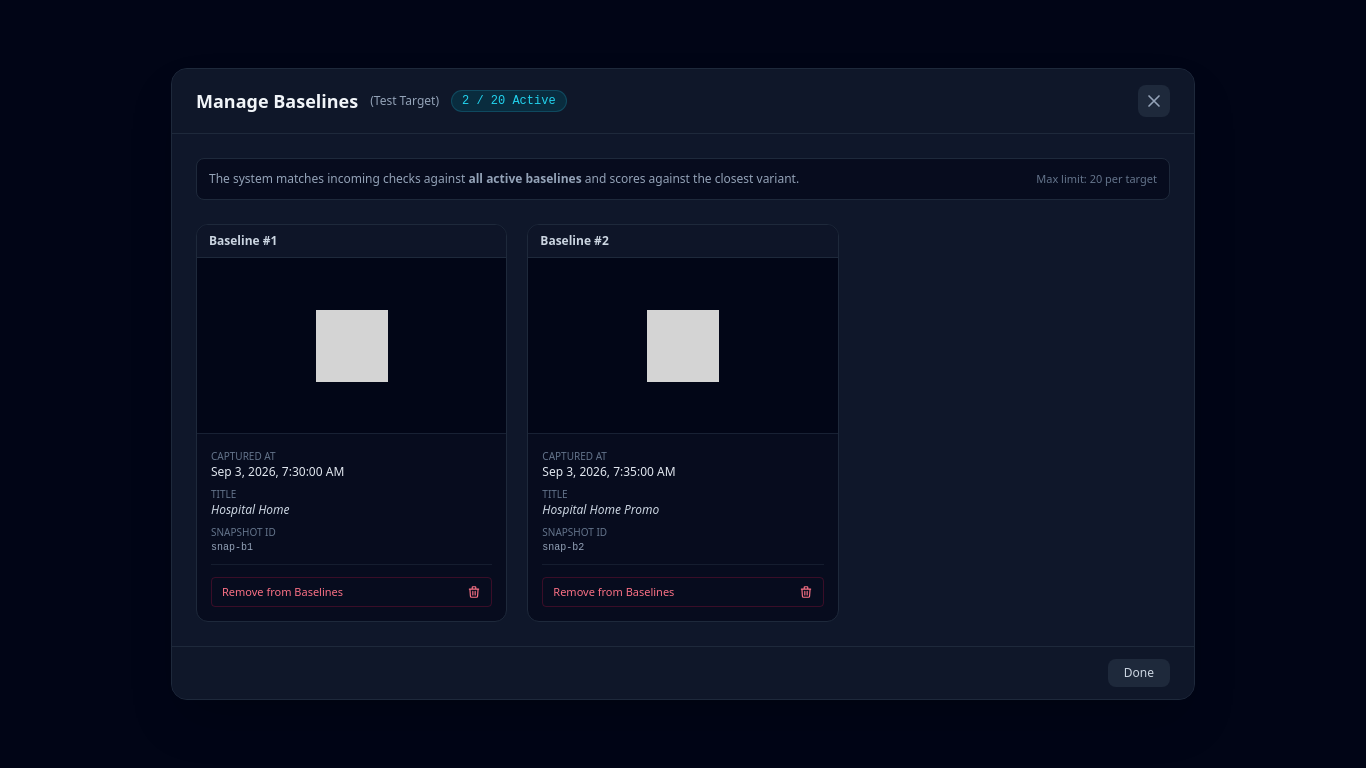
Test: BaselineManagerModal › surfaces the reason when a removal is rejected
The image size is (1366, 768).
Step 1. Click the button "Remove from Baselines" below "snap-b1" → (283, 592), box [211,577,492,607]
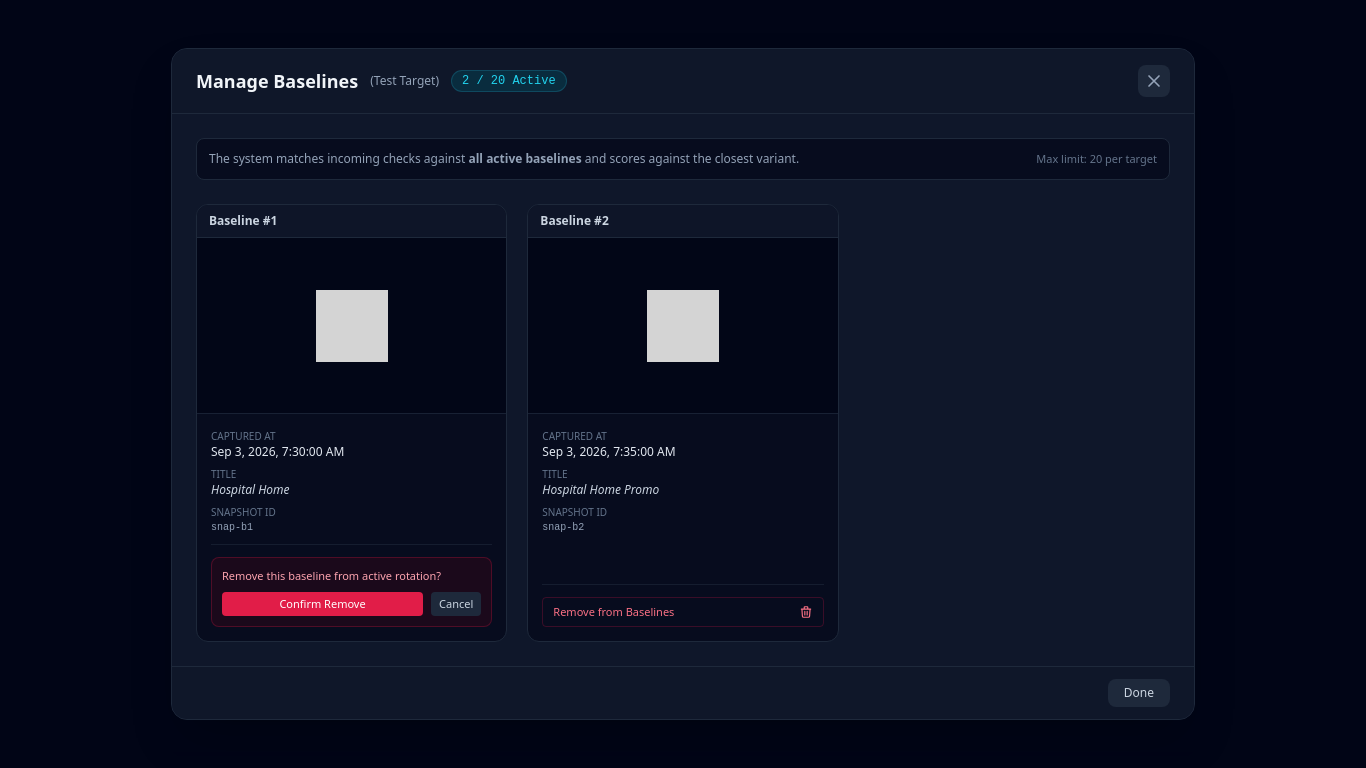
Step 2. Click the button "Confirm Remove" → (323, 604), box [222,592,423,616]
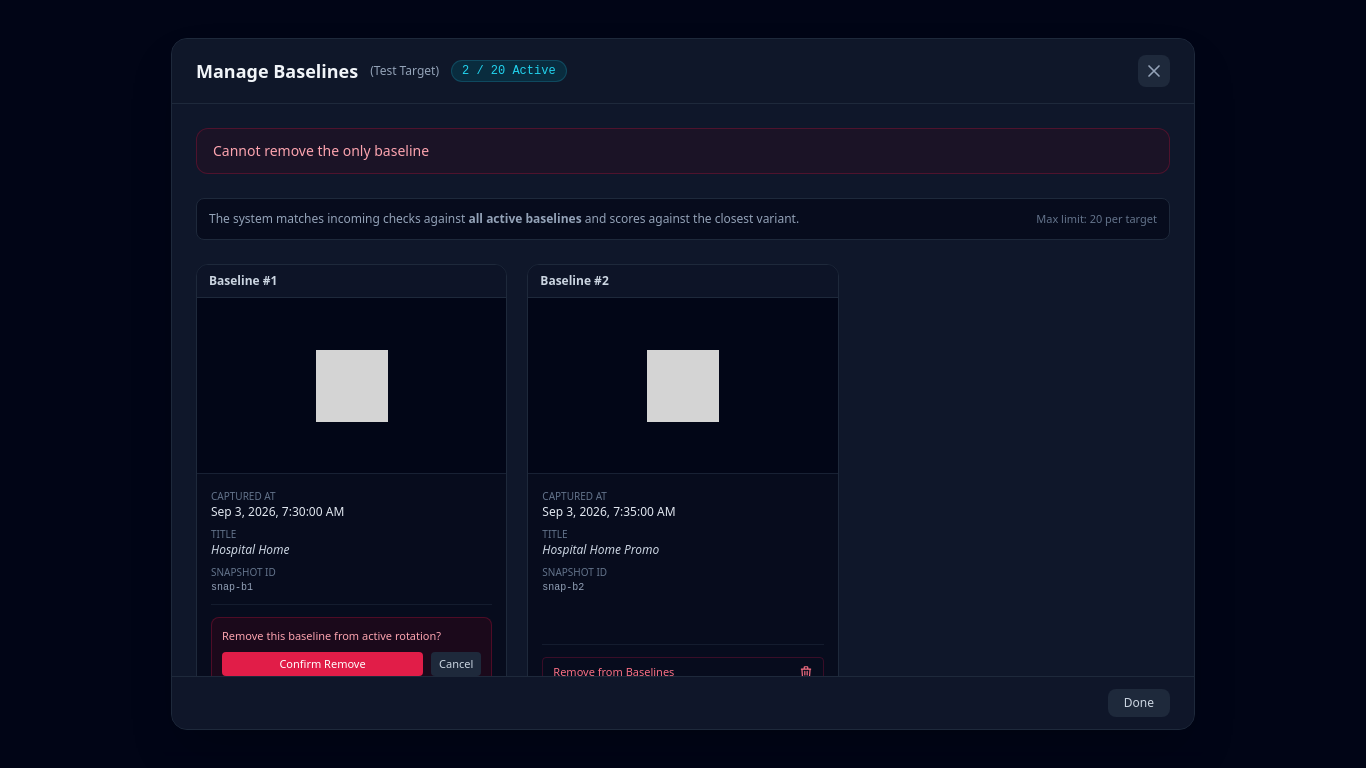
Now the message reads "Cannot remove the only baseline", box [213,141,429,160]
